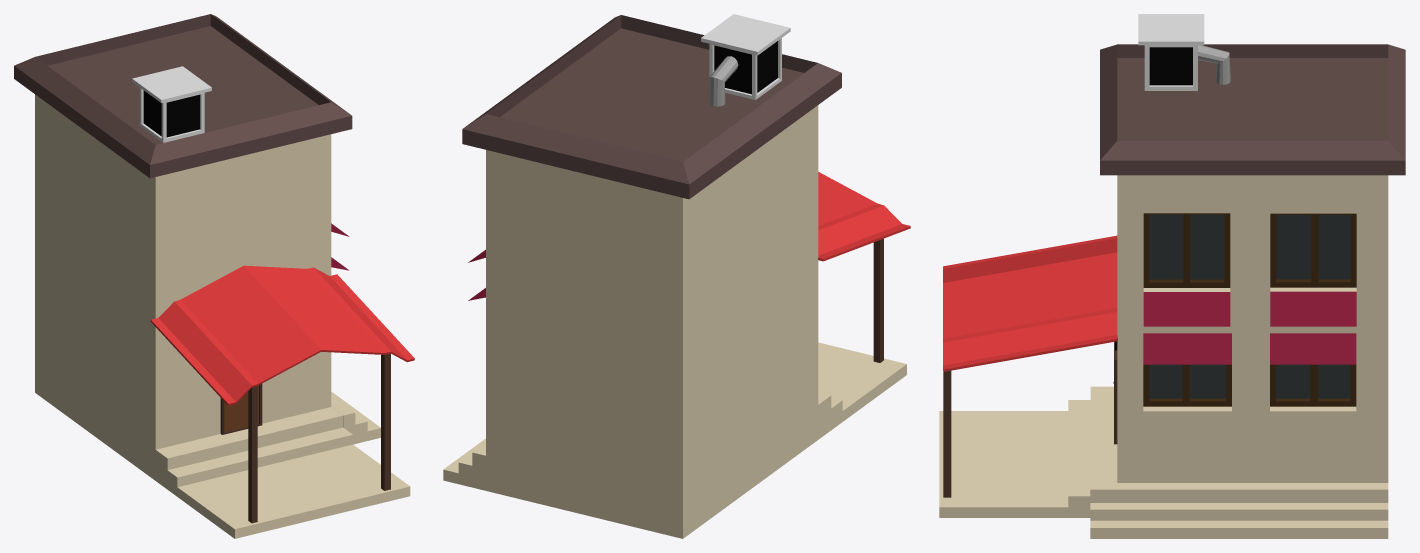
Rendered from house3.fbx.
3 renders of one model, left to right at view 1: azimuth 30°, elevation 25°; view 2: azimuth 150°, elevation 25°; view 3: azimuth 270°, elevation 25°, orthographic. The views are drawn at different scales.
Parts seen in each view (by area): view 1: Cube.008; view 2: Cube.008, Cube.012; view 3: Cube.008, Cube.012.
Boxes of the visible parts, x1=… form: Cube.008: x1=14, y1=14, x2=414, y2=538; Cube.008: x1=443, y1=14, x2=910, y2=538; Cube.012: x1=709, y1=56, x2=738, y2=106; Cube.008: x1=939, y1=14, x2=1405, y2=538; Cube.012: x1=1198, y1=45, x2=1230, y2=84.
Bounding box in the file's own units: 487 × 759 × 770.
